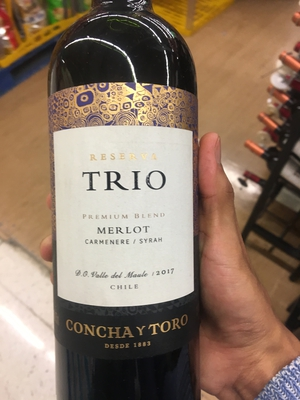trio merlot: (39, 23, 217, 376)
